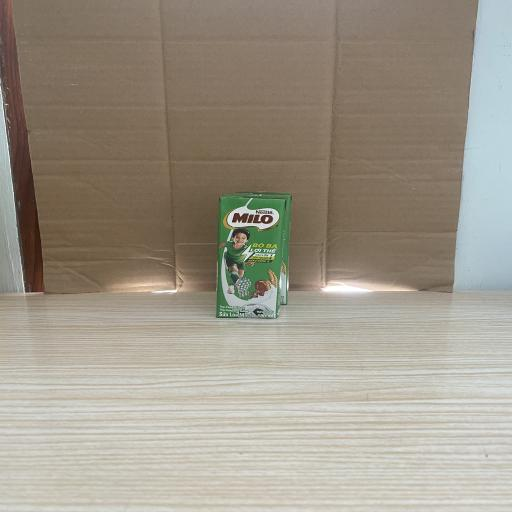milo: (215, 191, 292, 319)
